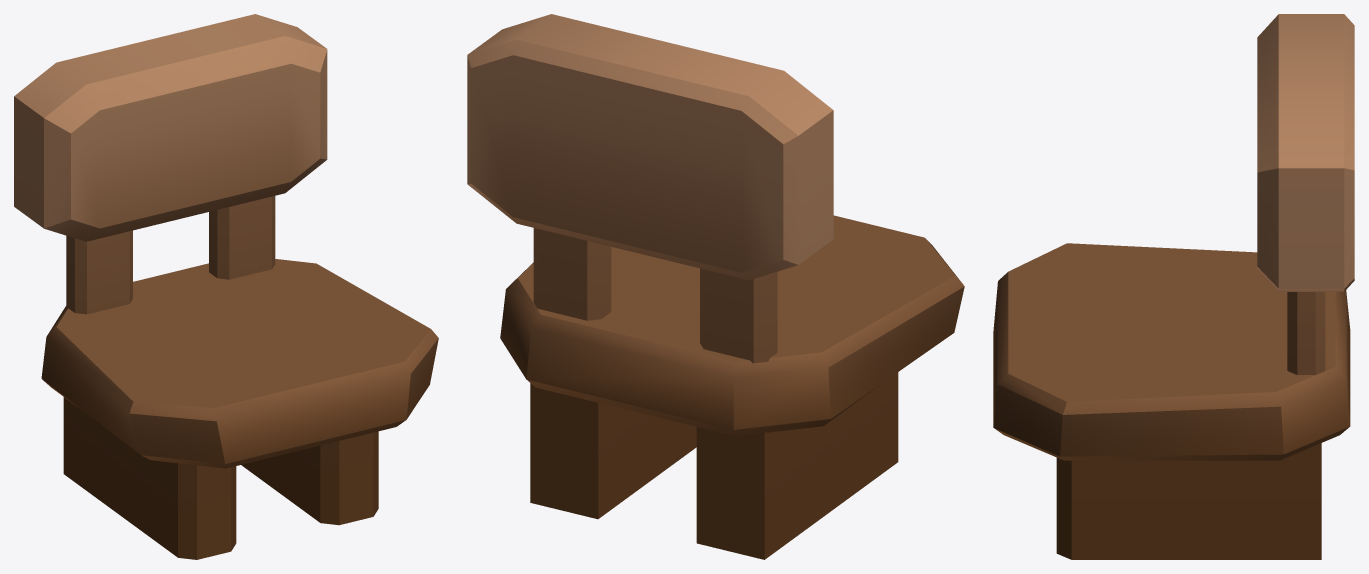
Rendered from Chair.fbx.
The picture shows the model from 3 angles, left to right: view 1: azimuth 30°, elevation 25°; view 2: azimuth 150°, elevation 25°; view 3: azimuth 270°, elevation 25°; orthographic projection. The views are drawn at different scales.
Visible parts, largest first — view 1: Chair; view 2: Chair; view 3: Chair.
Part boxes in pixels (box(x1,y1,x2,y2)): Chair: box(14, 14, 438, 559); Chair: box(467, 14, 964, 559); Chair: box(993, 14, 1354, 559).
Size of the model in its own units: 0.7278 by 0.9067 by 0.6733.
Materials: 1 (1 with a texture image).
